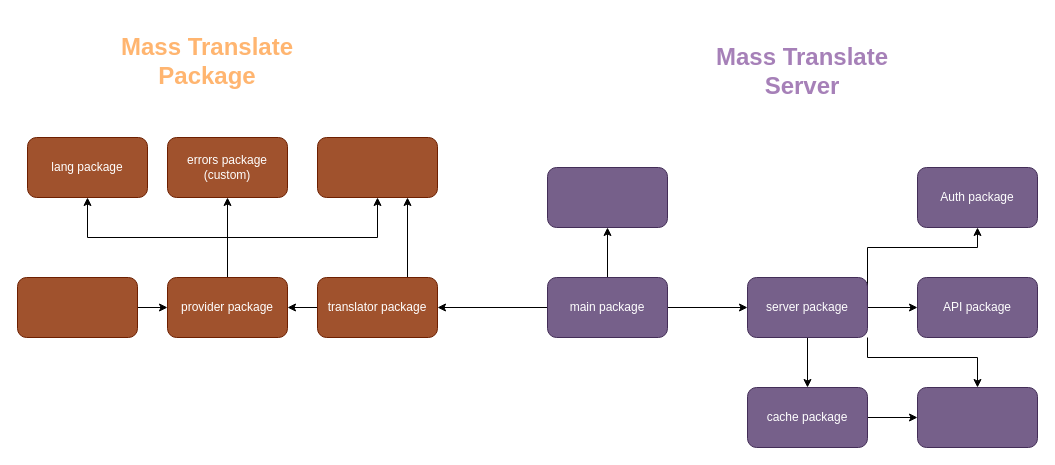
This 1055x465 diagram has some shape labels left out. The shapes that lost their labels are listed below. From the top down, each one's box as (x1, y1, x2, y2) in pixels, then its label:
(316, 136, 438, 198): format package
(546, 166, 668, 228): config package
(16, 276, 138, 338): provider/deepl package
(916, 386, 1038, 448): db package
